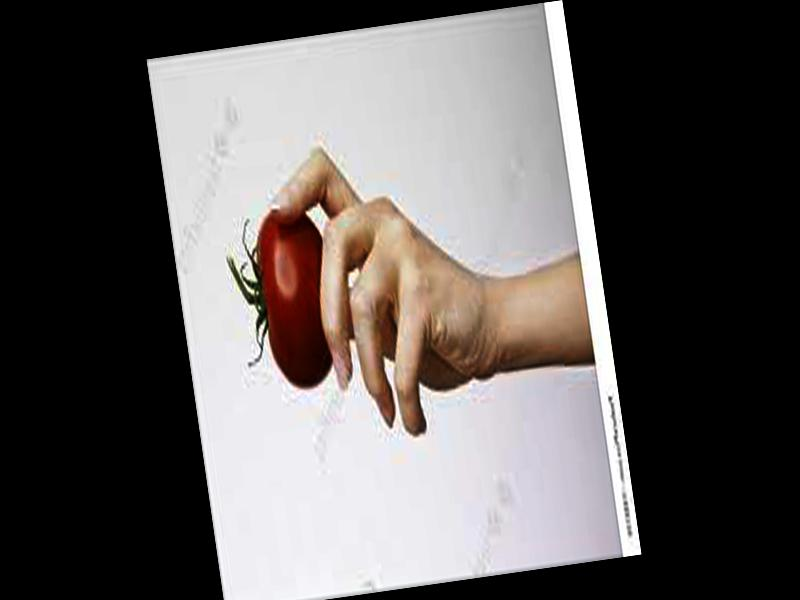Tomato: (222, 206, 340, 394)
